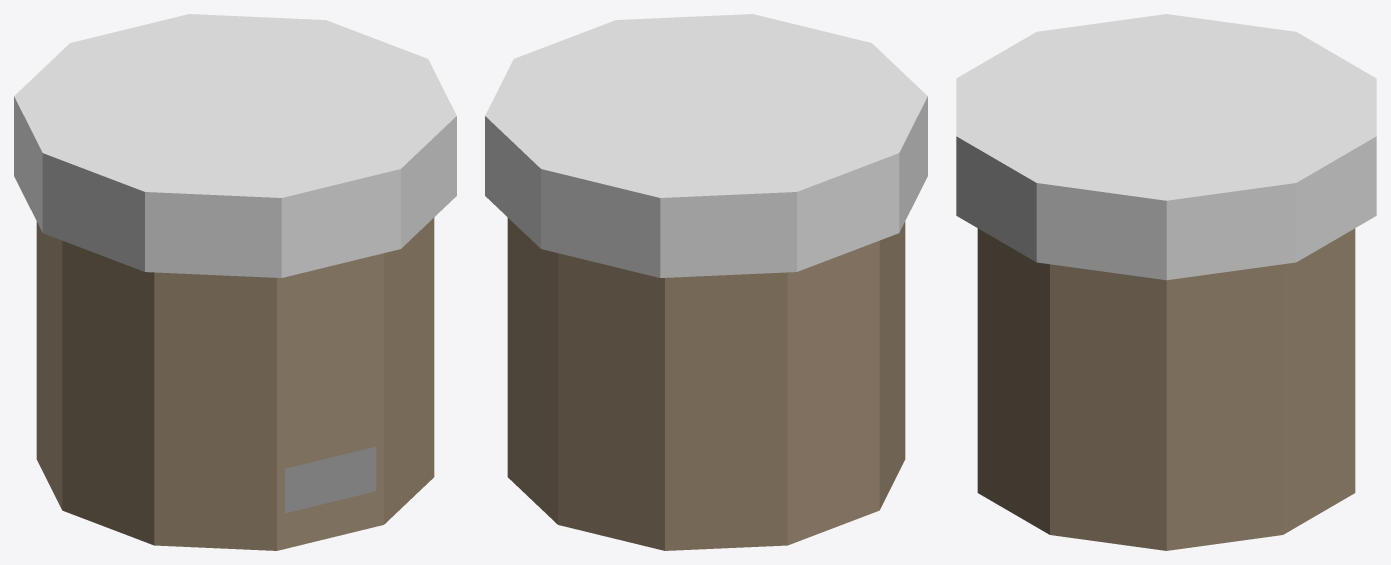
File: Caja circular.fbx
3 renders of one model, left to right at view 1: azimuth 30°, elevation 25°; view 2: azimuth 150°, elevation 25°; view 3: azimuth 270°, elevation 25°, orthographic.
Visible parts, largest first — view 1: Caja_circular; view 2: Caja_circular; view 3: Caja_circular.
Boxes of the visible parts, x1,y1,x2,y2 form: Caja_circular: (14,14,456,550); Caja_circular: (485,14,927,550); Caja_circular: (956,14,1376,550).
Bounding box in the file's own units: 1.18 × 1.06 × 1.12.
